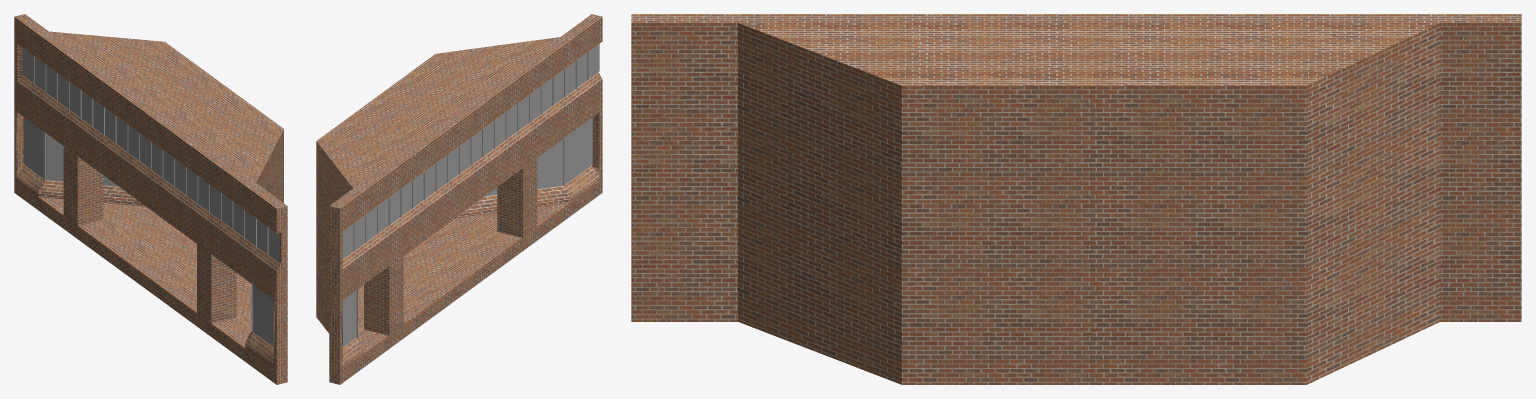
File: wall4.fbx
3 renders of one model, left to right at view 1: azimuth 30°, elevation 25°; view 2: azimuth 150°, elevation 25°; view 3: azimuth 270°, elevation 25°, orthographic. The views are drawn at different scales.
Parts seen in each view (by area): view 1: polySurface85, polySurface101, polySurface100; view 2: polySurface85, polySurface101, polySurface100; view 3: polySurface85.
Boxes of the visible parts, x1,y1,x2,y2 form: polySurface85: [14, 14, 287, 384]; polySurface101: [22, 48, 279, 346]; polySurface100: [32, 55, 268, 331]; polySurface85: [316, 14, 602, 384]; polySurface101: [342, 44, 599, 347]; polySurface100: [353, 51, 589, 337]; polySurface85: [631, 14, 1521, 384].
Bounding box in the file's own units: 6.33 × 12.22 × 32.99.
